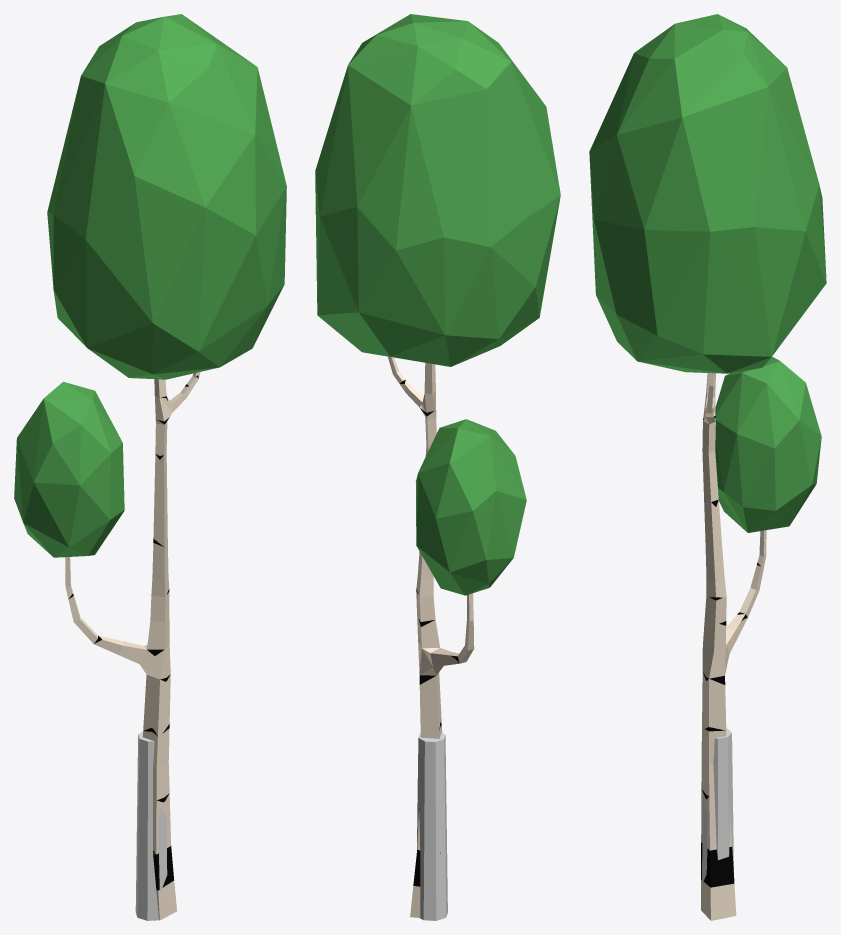
File: floresta_tree_birch_large_green.glb
3 views of the same model, side by side, from view 1: azimuth 30°, elevation 25°; view 2: azimuth 150°, elevation 25°; view 3: azimuth 270°, elevation 25° (orthographic).
Visible parts, largest first — view 1: Birch big green f, Colisao; view 2: Birch big green f, Colisao; view 3: Birch big green f, Colisao.
Boxes of the visible parts, left/top/right/bottom form: Birch big green f: left=14, top=14, right=286, bottom=920; Colisao: left=135, top=732, right=167, bottom=920; Birch big green f: left=315, top=14, right=560, bottom=917; Colisao: left=417, top=733, right=447, bottom=920; Birch big green f: left=589, top=14, right=826, bottom=920; Colisao: left=702, top=728, right=733, bottom=883.
Size of the model in its own units: 4.3 by 16.84 by 4.08.
